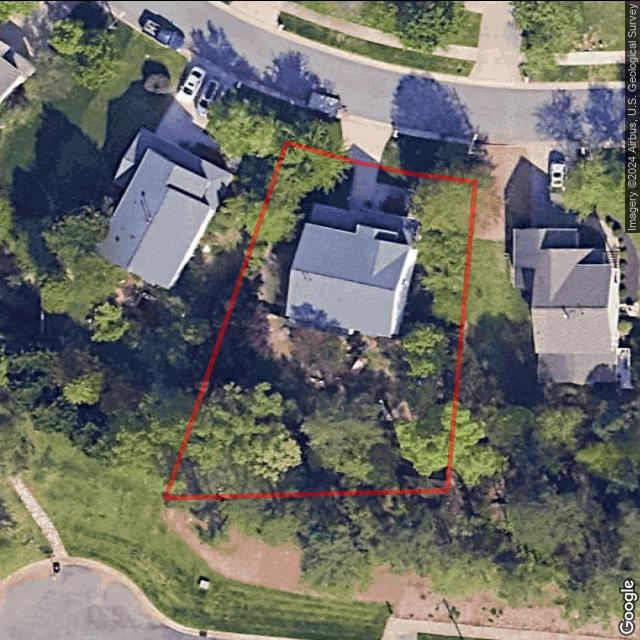Extra-Driveway: (341, 116, 395, 162)
Extra-Lawn: (380, 131, 475, 181), (288, 105, 343, 153)
House: (285, 221, 411, 335)
Lawn: (164, 142, 474, 497)
Other: (167, 386, 453, 495), (255, 142, 353, 236), (348, 160, 378, 213)
Sidewalk: (372, 182, 418, 219)
